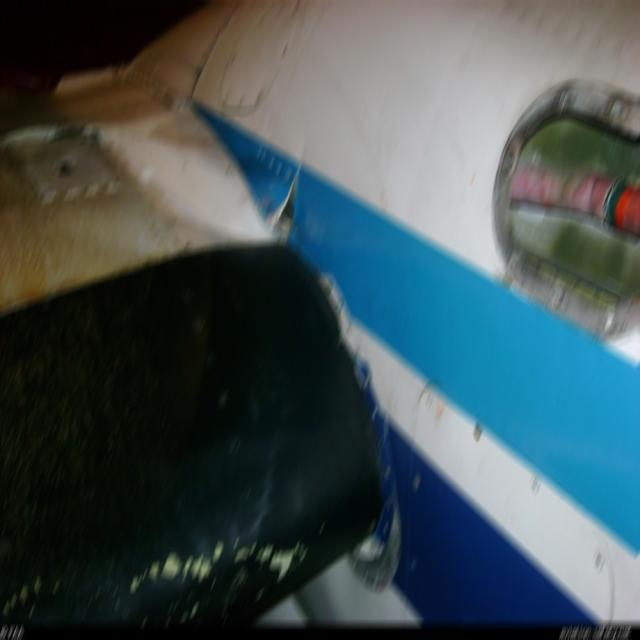crack: (270, 167, 305, 230)
